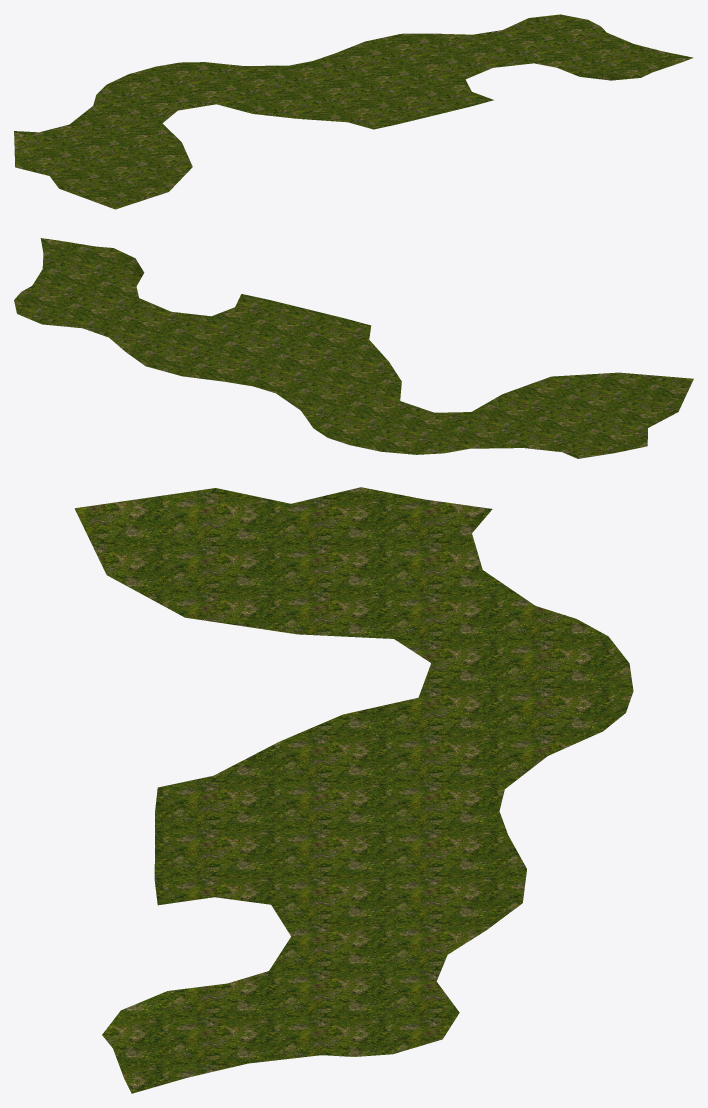
The model's file is OVERHILL_A_01_LINE13.fbx.
The picture shows the model from 3 angles, top to bottom: view 1: azimuth 30°, elevation 25°; view 2: azimuth 150°, elevation 25°; view 3: azimuth 270°, elevation 25°; orthographic projection. The views are drawn at different scales.
Parts seen in each view (by area): view 1: OVERHILL_A_01_LINE13; view 2: OVERHILL_A_01_LINE13; view 3: OVERHILL_A_01_LINE13.
Boxes of the visible parts, bbox=[...] form: OVERHILL_A_01_LINE13: bbox=[14, 14, 693, 209]; OVERHILL_A_01_LINE13: bbox=[14, 238, 693, 458]; OVERHILL_A_01_LINE13: bbox=[74, 487, 633, 1093].
Bounding box in the file's own units: 257445 × 1826 × 100287.
Materials: 1 (1 with a texture image).
